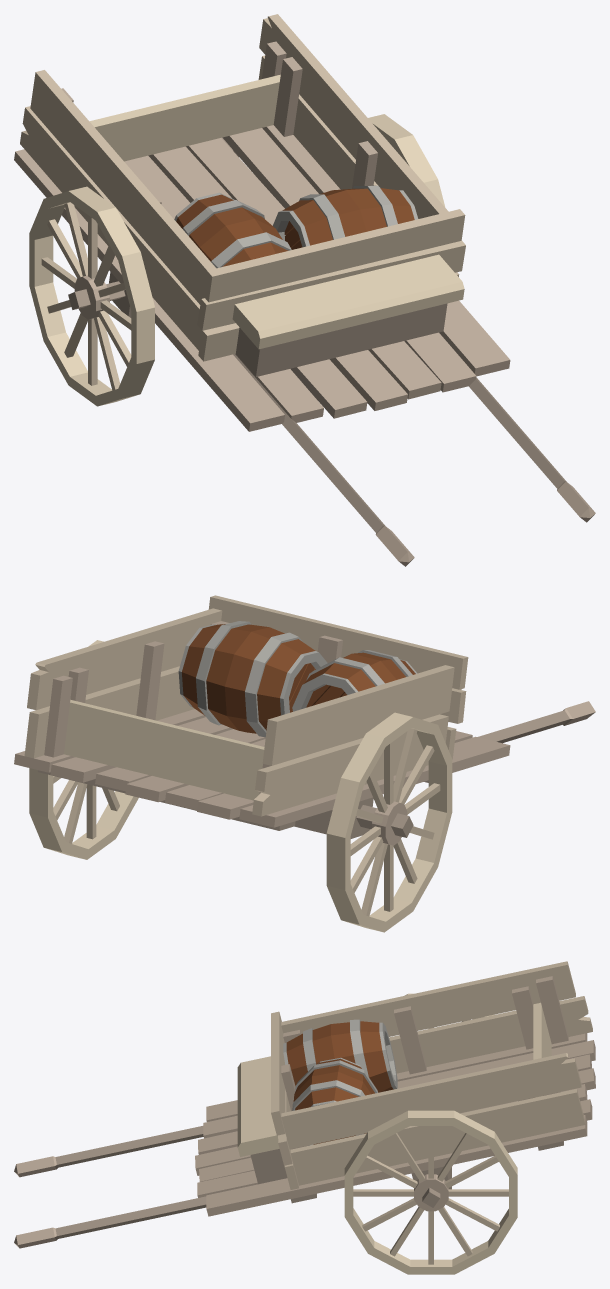
Rendered from Carro.glb.
The picture shows the model from 3 angles, top to bottom: view 1: azimuth 30°, elevation 25°; view 2: azimuth 150°, elevation 25°; view 3: azimuth 270°, elevation 25°; orthographic projection. The views are drawn at different scales.
Parts seen in each view (by area): view 1: object21_object21; view 2: object21_object21; view 3: object21_object21.
Part boxes in pixels (x1,y1,x2,y2): object21_object21: (14, 14, 595, 566); object21_object21: (14, 595, 595, 932); object21_object21: (14, 961, 595, 1274).
Bounding box in the file's own units: 1.8 × 1.3 × 3.36.
